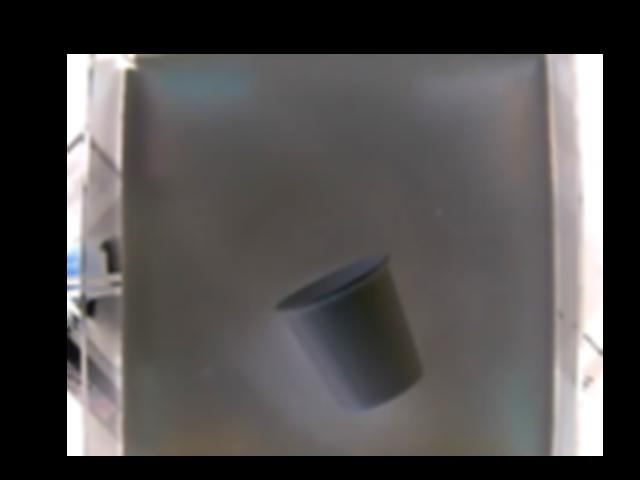Cup: (272, 254, 425, 411)
